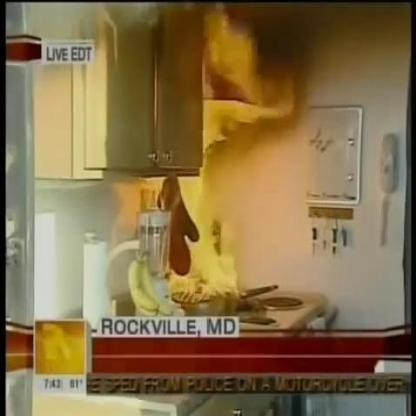fire: (162, 4, 288, 302)
